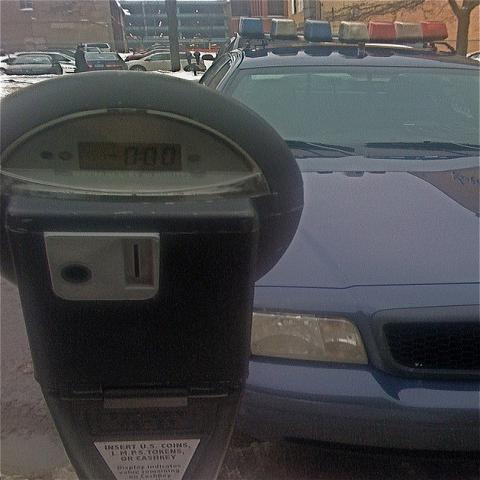car: (203, 13, 479, 452), (126, 52, 204, 72), (0, 53, 65, 74), (15, 51, 76, 66), (85, 52, 128, 70), (125, 50, 188, 62), (36, 48, 77, 58), (81, 42, 112, 52), (148, 47, 166, 52)
